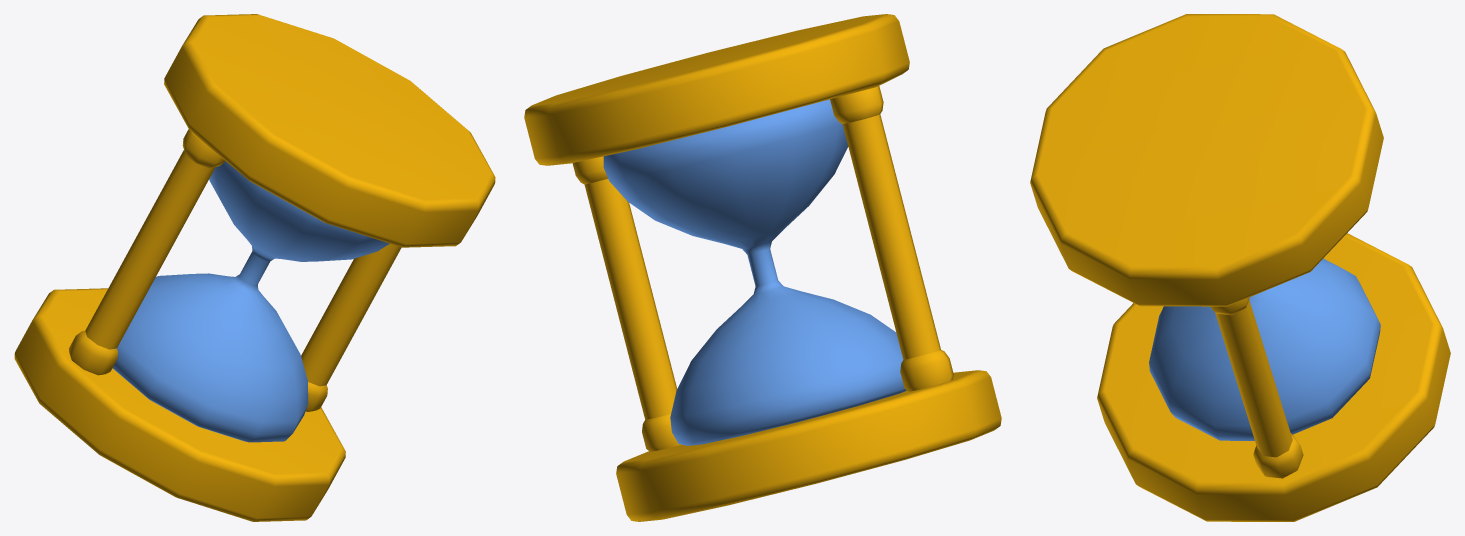
The picture shows the model from 3 angles, left to right: view 1: azimuth 30°, elevation 25°; view 2: azimuth 150°, elevation 25°; view 3: azimuth 270°, elevation 25°; orthographic projection. The views are drawn at different scales.
Visible parts, largest first — view 1: model_1.072; view 2: model_1.072; view 3: model_1.072.
Part boxes in pixels (x1,y1,x2,y2): model_1.072: (14, 14, 495, 521); model_1.072: (524, 14, 1001, 521); model_1.072: (1030, 14, 1450, 521).
Bounding box in the file's own units: 4.79 × 5.07 × 4.23.
